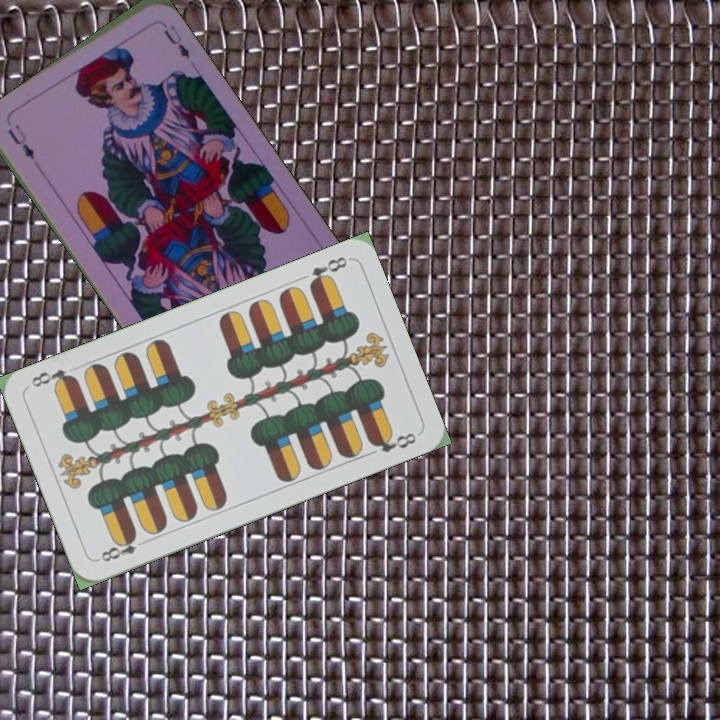E8: (305, 252, 350, 290), (94, 530, 140, 565)
EU: (3, 120, 37, 163)
